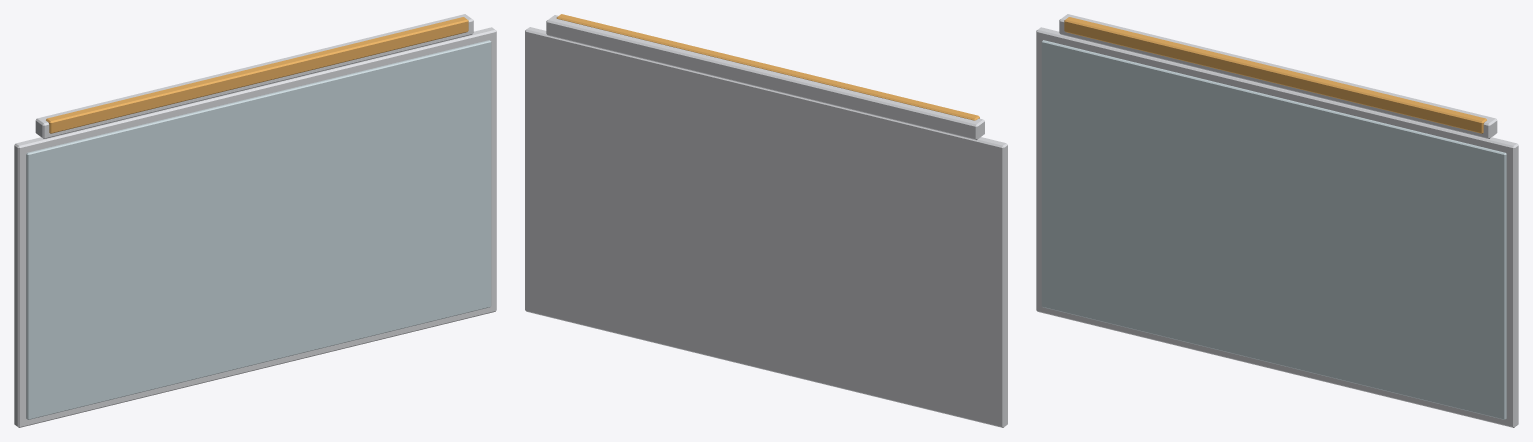
File: office-lobby-and-facilities-washroom-mirror-run-cb9fd1d2__26183.glb
3 renders of one model, left to right at view 1: azimuth 30°, elevation 25°; view 2: azimuth 150°, elevation 25°; view 3: azimuth 330°, elevation 25°, orthographic.
Visible parts, largest first — view 1: washroom-mirror-run; view 2: washroom-mirror-run; view 3: washroom-mirror-run.
Part boxes in pixels (left/top/right/bottom): washroom-mirror-run: left=14, top=14, right=496, bottom=427; washroom-mirror-run: left=525, top=14, right=1007, bottom=427; washroom-mirror-run: left=1036, top=14, right=1518, bottom=427.
Bounding box in the file's own units: 1.6 × 0.96 × 0.055.
